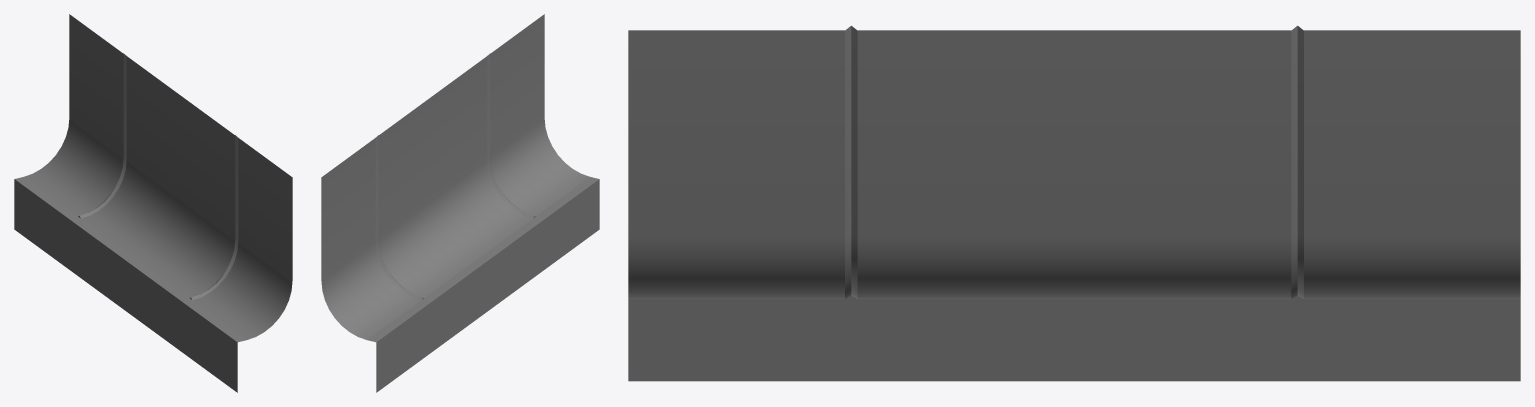
File: q-scifi-mod-topplastic-straight.glb
The picture shows the model from 3 angles, left to right: view 1: azimuth 30°, elevation 25°; view 2: azimuth 150°, elevation 25°; view 3: azimuth 270°, elevation 25°; orthographic projection. The views are drawn at different scales.
Parts seen in each view (by area): view 1: TopPlastic_Straight; view 2: TopPlastic_Straight; view 3: TopPlastic_Straight.
Part boxes in pixels (x1,y1,x2,y2): TopPlastic_Straight: (14, 14, 292, 392); TopPlastic_Straight: (321, 14, 599, 392); TopPlastic_Straight: (628, 25, 1520, 381).
Bounding box in the file's own units: 0.5679 × 2.02 × 4.
3 materials, 3 textured.
